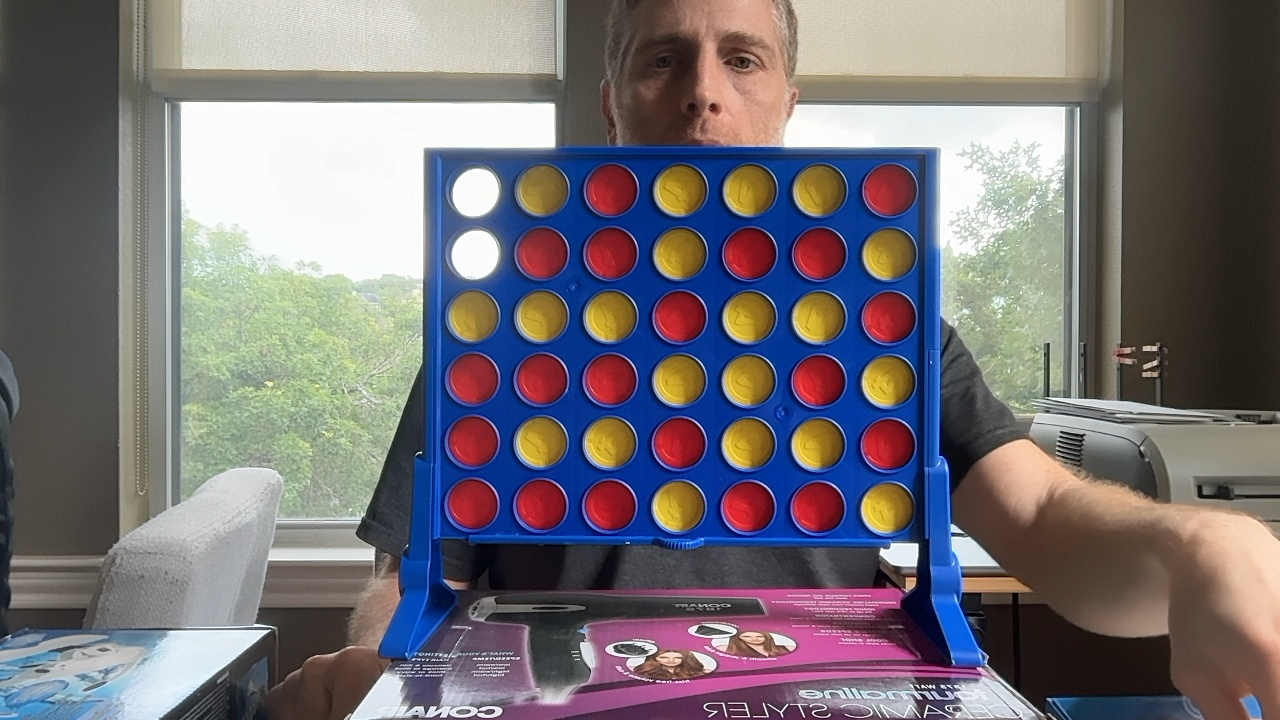red piece: (791, 354, 846, 407), (792, 227, 846, 280), (722, 227, 776, 280), (863, 163, 917, 216), (584, 353, 637, 406), (862, 291, 916, 343), (861, 418, 915, 470), (653, 417, 705, 470), (585, 163, 637, 216), (584, 227, 637, 279), (515, 353, 568, 405), (722, 481, 775, 533), (515, 227, 568, 279), (653, 291, 706, 343), (791, 481, 844, 533), (583, 479, 636, 531), (445, 478, 497, 530), (446, 353, 498, 405), (447, 415, 498, 467), (515, 479, 566, 531)
yellow piece: (722, 417, 775, 471), (722, 354, 775, 407), (583, 416, 636, 469), (653, 227, 706, 280), (514, 416, 567, 469), (792, 291, 846, 343), (515, 290, 568, 342), (793, 164, 846, 216), (723, 164, 776, 216), (654, 163, 706, 216), (653, 354, 705, 407), (652, 480, 705, 532), (722, 291, 775, 343), (583, 290, 636, 342), (861, 482, 914, 534), (863, 228, 916, 280), (446, 290, 498, 342), (516, 164, 568, 216), (862, 355, 914, 407), (792, 418, 844, 470)
